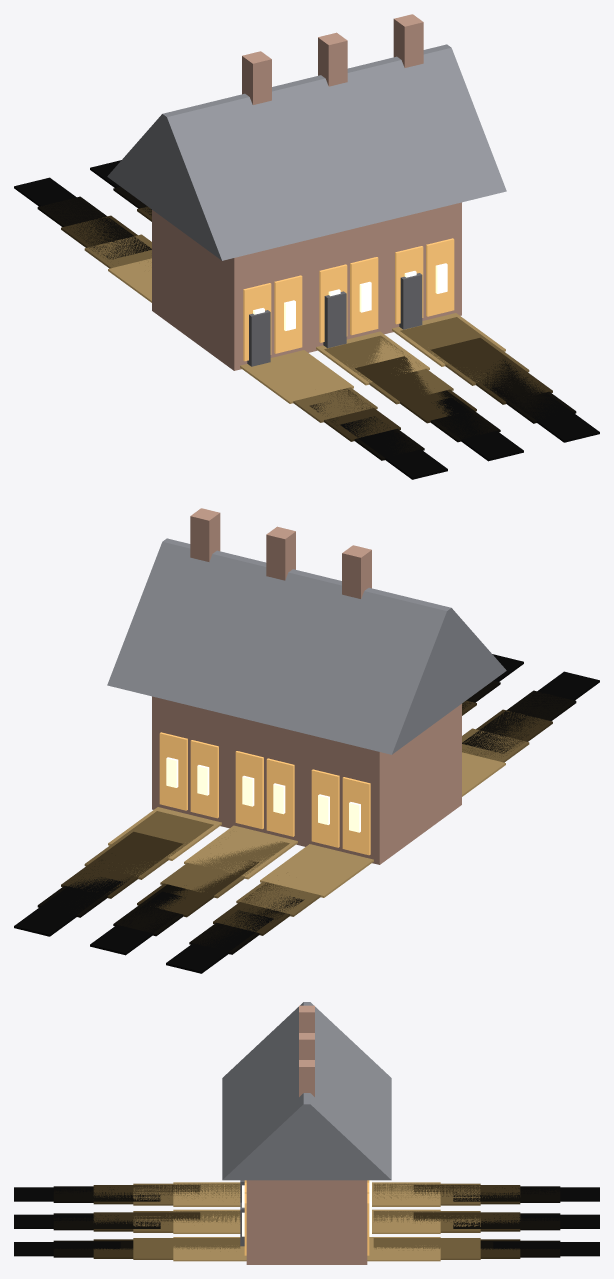
The model's file is town_terrace_2.glb.
The picture shows the model from 3 angles, top to bottom: view 1: azimuth 30°, elevation 25°; view 2: azimuth 150°, elevation 25°; view 3: azimuth 270°, elevation 25°; orthographic projection. The views are drawn at different scales.
Visible parts, largest first — view 1: town_terrace_2; view 2: town_terrace_2; view 3: town_terrace_2.
Boxes of the visible parts, x1,y1,x2,y2 form: town_terrace_2: (14,14,599,479); town_terrace_2: (14,508,599,973); town_terrace_2: (14,1002,599,1264).
Bounding box in the file's own units: 0.816 × 0.7337 × 1.98.
